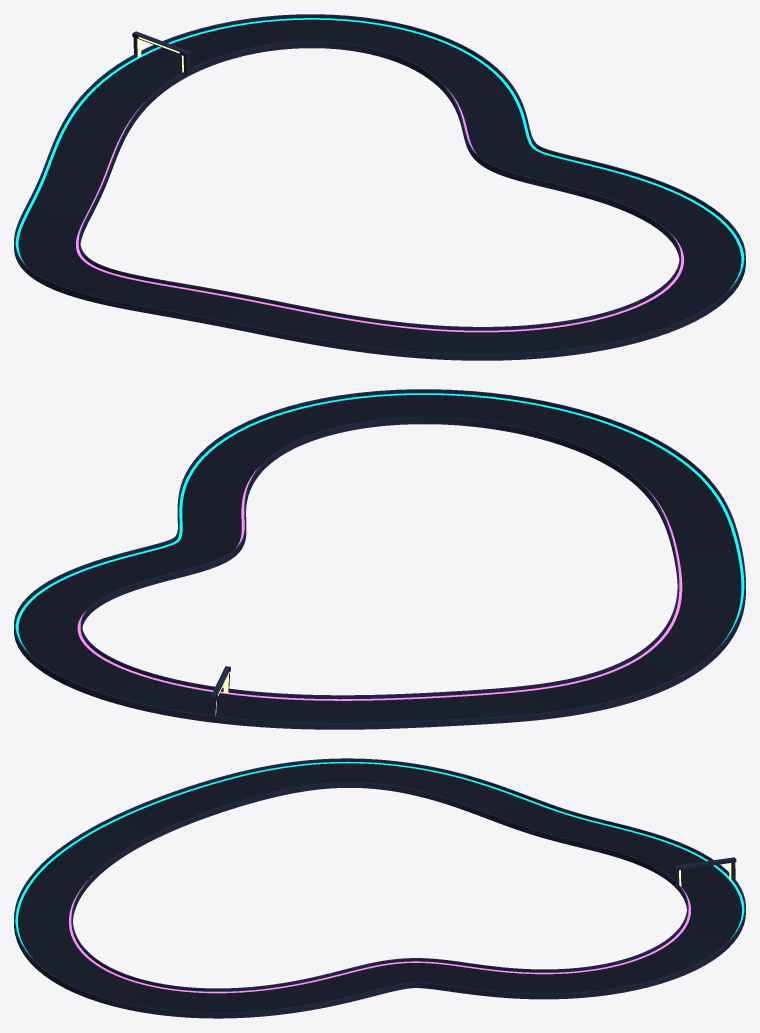
The model's file is NeonTrack.fbx.
3 views of the same model, one above another, from view 1: azimuth 30°, elevation 25°; view 2: azimuth 150°, elevation 25°; view 3: azimuth 270°, elevation 25° (orthographic). The views are drawn at different scales.
Parts seen in each view (by area): view 1: NeonTrack; view 2: NeonTrack; view 3: NeonTrack.
Boxes of the visible parts, x1,y1,x2,y2 form: NeonTrack: [14, 14, 745, 360]; NeonTrack: [14, 389, 745, 729]; NeonTrack: [14, 758, 745, 1018].
Size of the model in its own units: 209 by 16.56 by 259.
